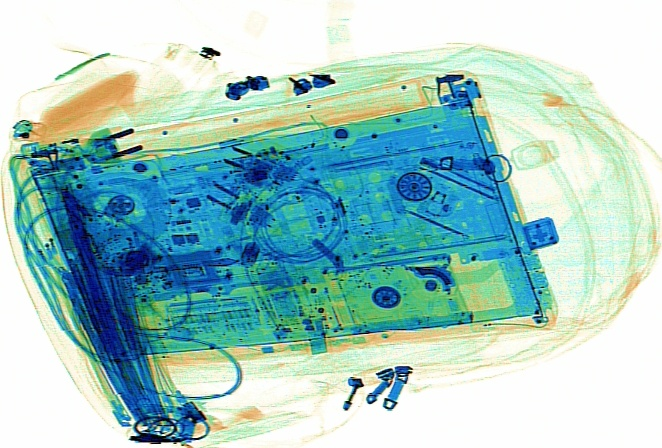lighter: (18, 121, 125, 157)
